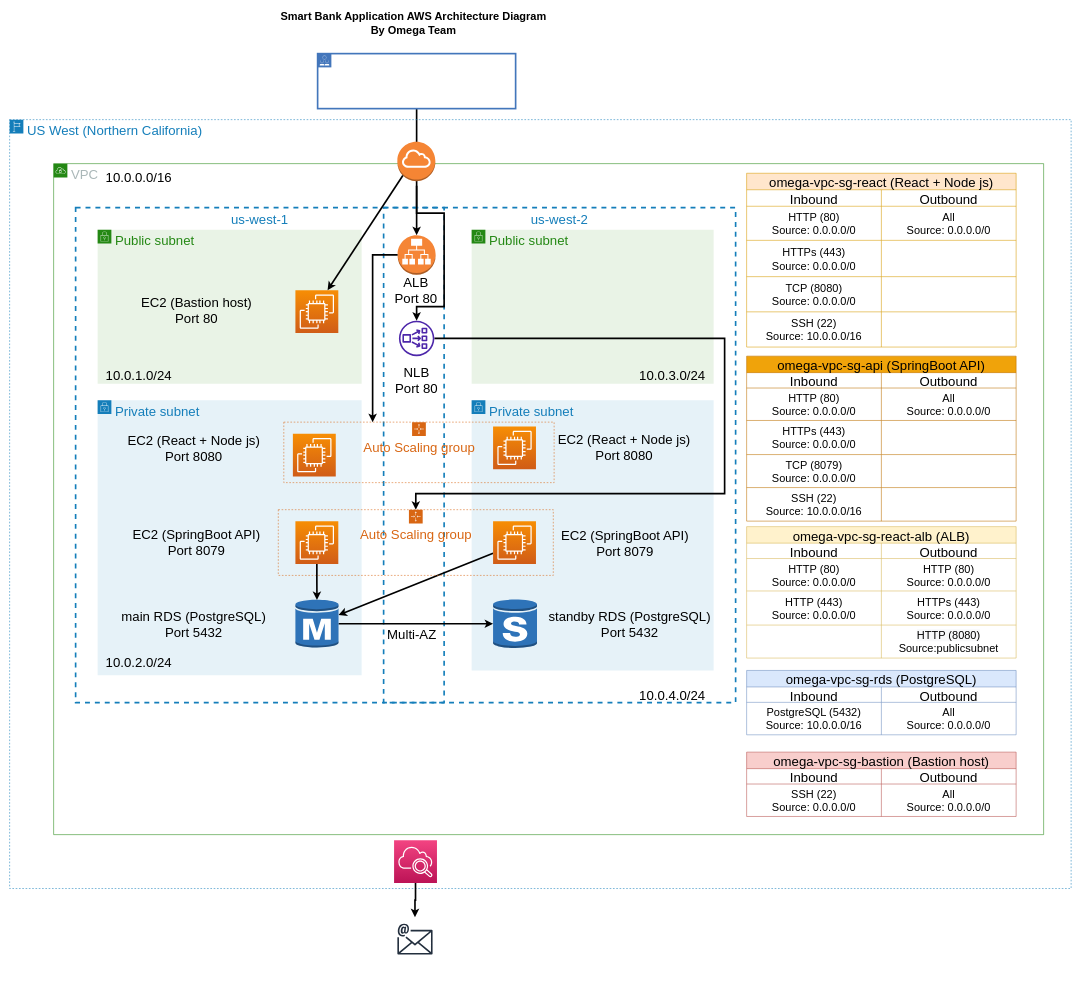
The diagram is 1081 pixels wide and 982 high, and some of its shapes have lost their labels. The centre of each missing label's shape, as x and y in pixels:
"Email" belongs at [414,939].
"Public Network" belongs at [416,81].
